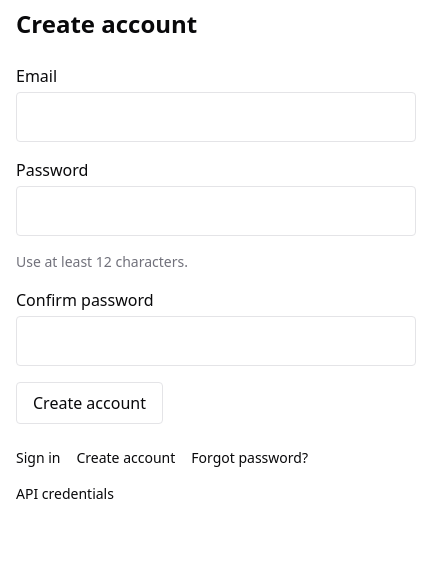
Test: requires matching signup passwords and reports pending email confirmation
Type "a@example.test" into the field labelled "Email" at (216, 117), box left=16, top=92, right=416, bottom=142
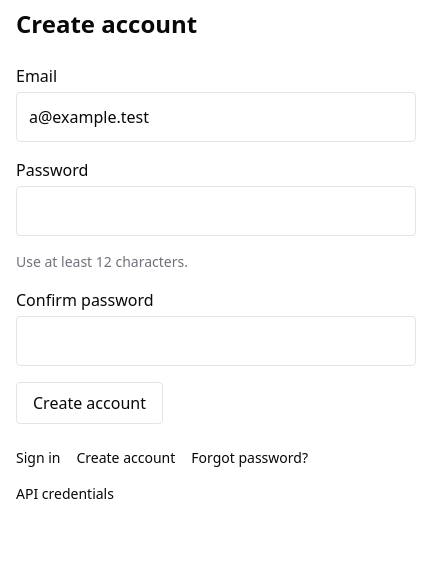
Type "strong-test-password" into the password field labelled "Password" at (216, 211), box left=16, top=186, right=416, bottom=236
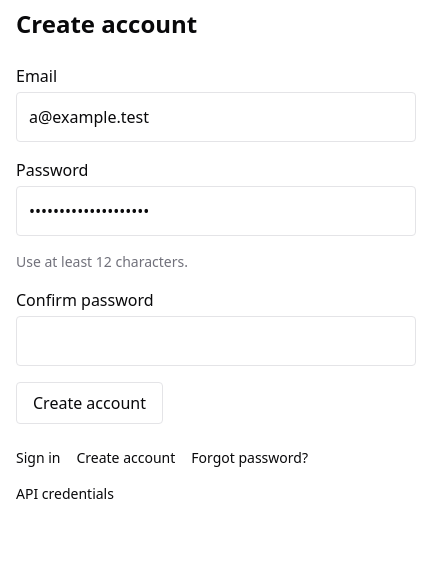
Type "different-password" into the password field labelled "Confirm password" at (216, 341), box left=16, top=316, right=416, bottom=366
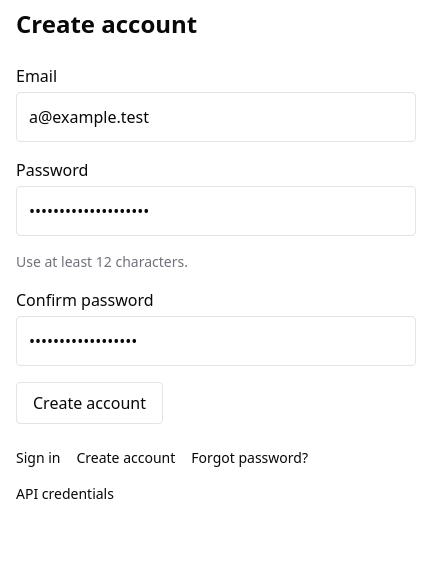
Click the button "Create account" at (89, 403), box left=16, top=382, right=163, bottom=424
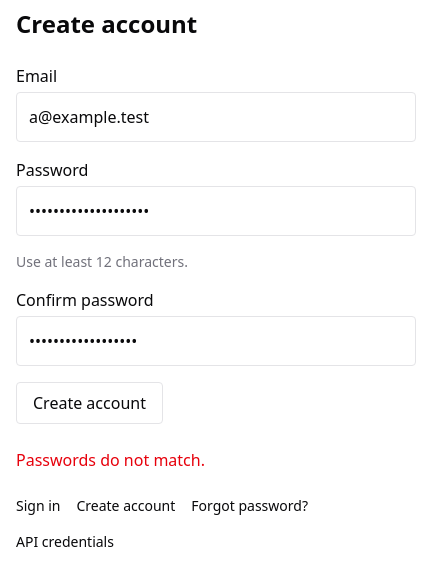
Result: the message shows "Passwords do not match" at left=16, top=449, right=205, bottom=471
Type "strong-test-password" into the password field labelled "Confirm password" at (216, 341), box left=16, top=316, right=416, bottom=366
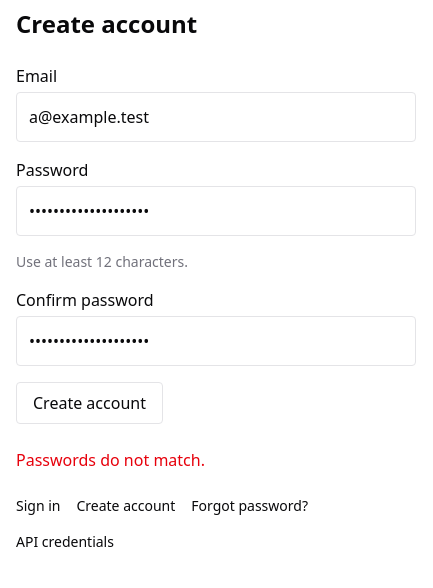
Click the button "Create account" at (89, 403), box left=16, top=382, right=163, bottom=424
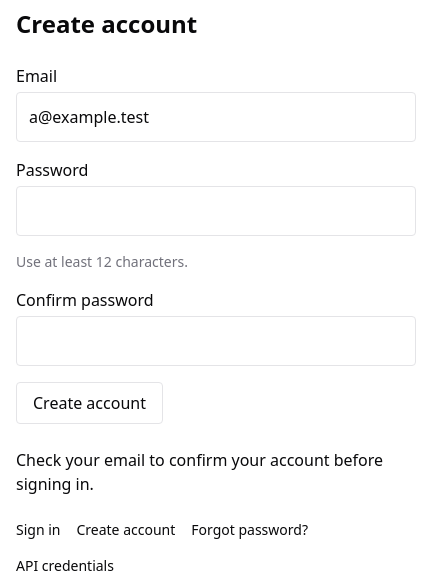
Result: the message shows "Check your email" at left=16, top=449, right=383, bottom=495
